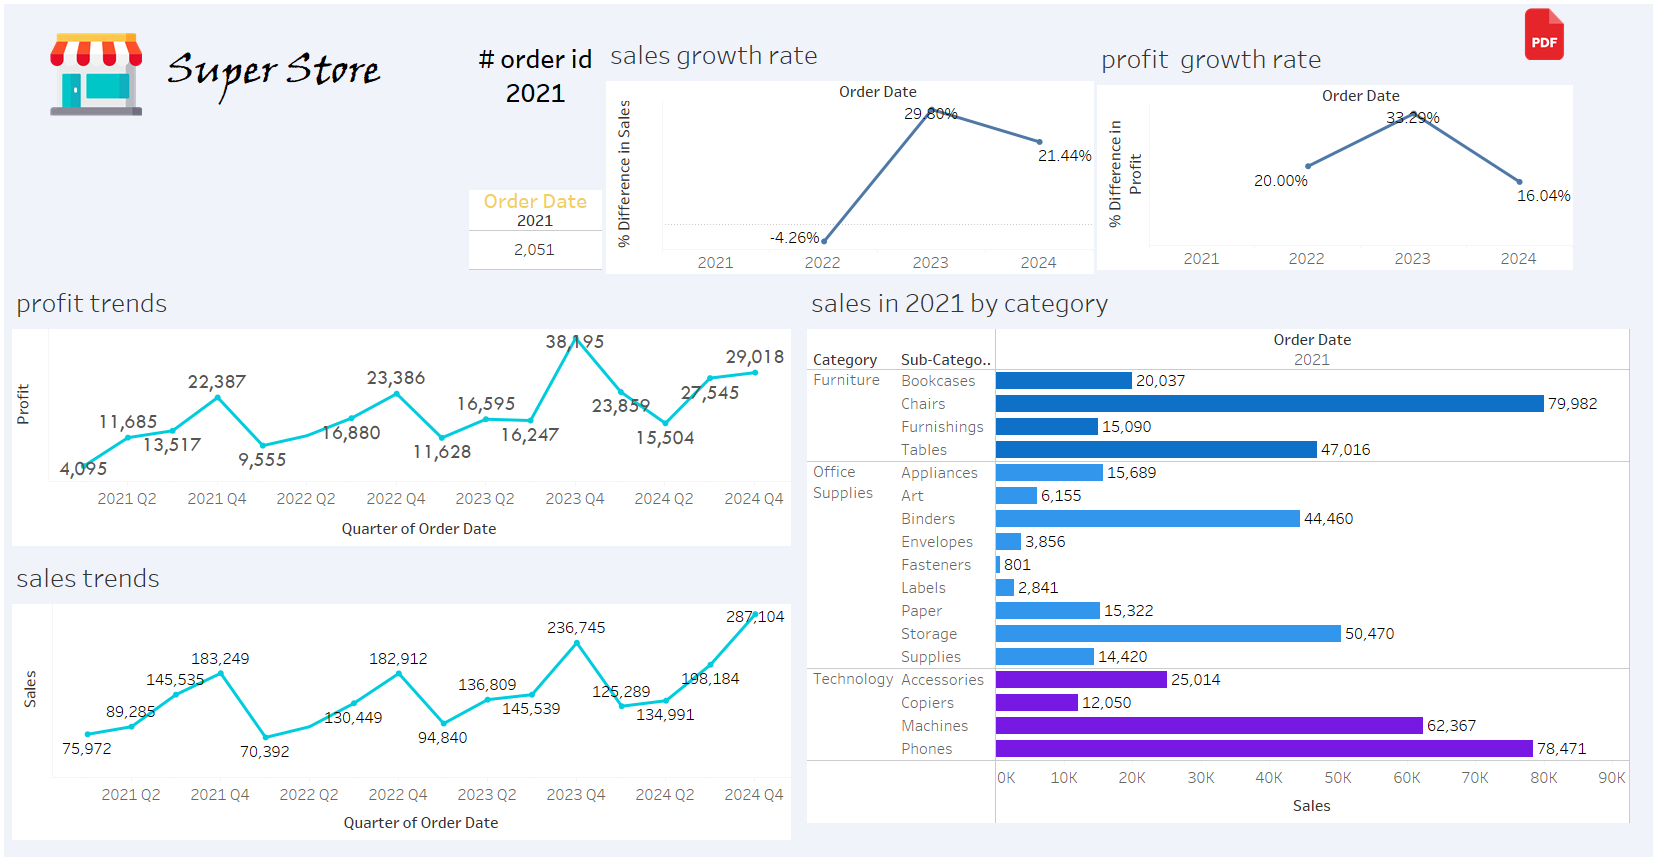

This screenshot's page, from the dashboard's own definition file:
{"tool":"tableau","page":{"name":"time ","canvas":[1000,1000],"units":"permille","ordinal":3},"visuals":[{"type":"blank","box":[0,0,1000,1000]},{"type":"dashboard-object","box":[877.2,9.3,109.5,60.4]},{"type":"image","param":"Image/store.png","box":[27.8,27.9,68.8,116.1]},{"type":"text","box":[96.6,27.9,318.7,116.1]},{"type":"worksheet","title":"count of orders in 2021","mark":"Automatic","cols":["Order Date"],"box":[280.6,36,85.1,282.2]},{"type":"worksheet","title":"sales growth rate","mark":"Automatic","rows":["Sales"],"cols":["Order Date"],"box":[365.7,36,294.2,282.2]},{"type":"worksheet","title":"profit  growth rate","mark":"Automatic","rows":["Profit"],"cols":["Order Date"],"box":[659.9,36,291.8,282.2]},{"type":"worksheet","title":"profit trends","mark":"Automatic","rows":["Profit"],"cols":["Order Date"],"box":[4.7,319.4,474.4,319.4]},{"type":"worksheet","title":"sales in 2021 by category","mark":"Automatic","rows":["Category","Sub-Category"],"cols":["Order Date","Sales"],"box":[487,324,496.7,660.9]},{"type":"worksheet","title":"sales trends ","mark":"Automatic","rows":["Sales"],"cols":["Order Date"],"box":[4.7,638.8,474.4,341.5]}]}

Visuals, with their boxes on the dashboard's canvas, which has no fixed pixel size, in thousandths of its width and height (x1, y1, x2, y2). These are canvas units, not pixel positions in the 1657x861 screenshot, which may show the page scaled, cropped or inside an application window:
blank: {"x1": 0, "y1": 0, "x2": 1000, "y2": 1000}
dashboard-object: {"x1": 877, "y1": 9, "x2": 987, "y2": 70}
image: {"x1": 28, "y1": 28, "x2": 97, "y2": 144}
text: {"x1": 97, "y1": 28, "x2": 415, "y2": 144}
"count of orders in 2021" worksheet: {"x1": 281, "y1": 36, "x2": 366, "y2": 318}
"sales growth rate" worksheet: {"x1": 366, "y1": 36, "x2": 660, "y2": 318}
"profit  growth rate" worksheet: {"x1": 660, "y1": 36, "x2": 952, "y2": 318}
"profit trends" worksheet: {"x1": 5, "y1": 319, "x2": 479, "y2": 639}
"sales in 2021 by category" worksheet: {"x1": 487, "y1": 324, "x2": 984, "y2": 985}
"sales trends " worksheet: {"x1": 5, "y1": 639, "x2": 479, "y2": 980}
